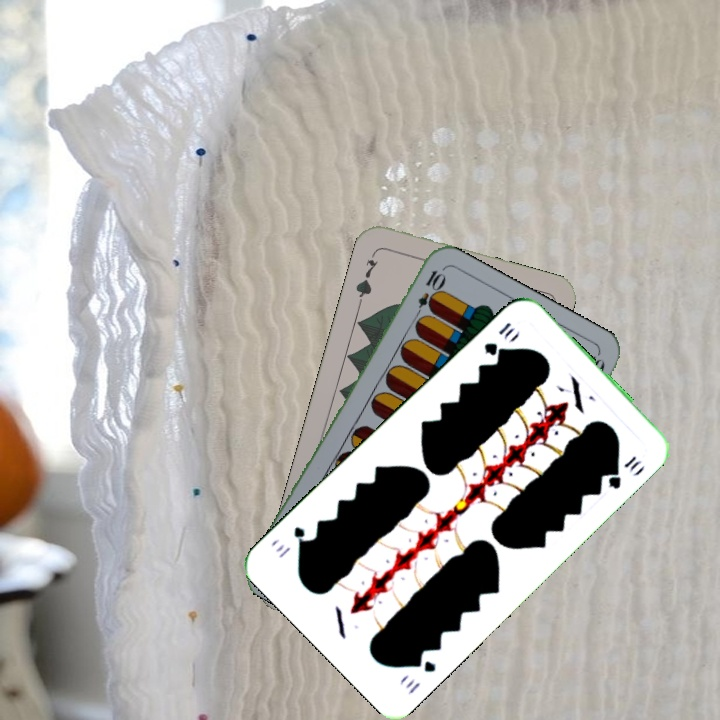E10: (410, 266, 447, 323)
G10: (401, 652, 439, 698), (480, 318, 516, 359)
G7: (351, 248, 381, 306)
